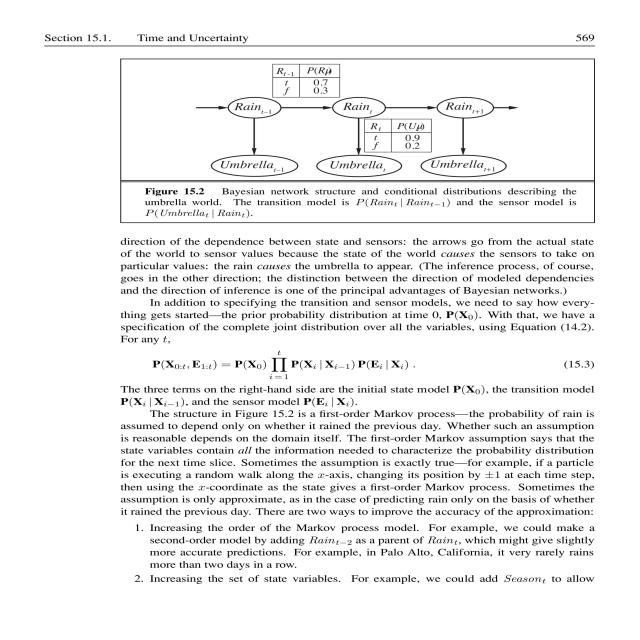diagram: (94, 48, 640, 212)
